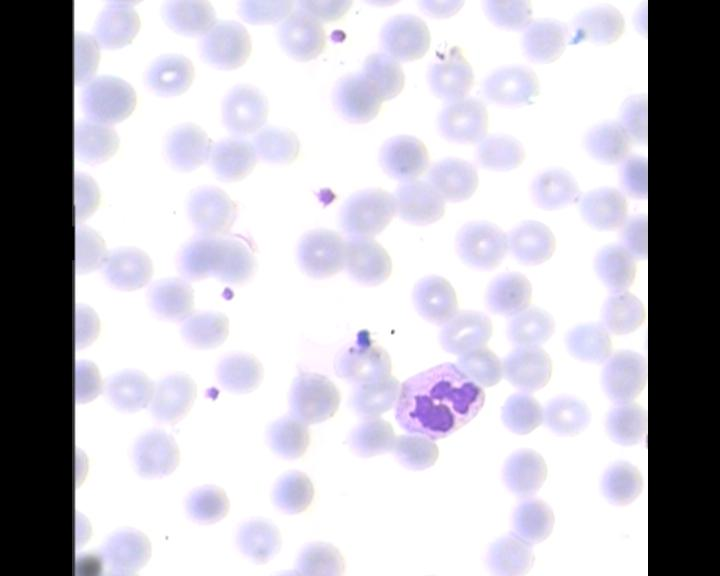neut: (389, 357, 488, 441)
